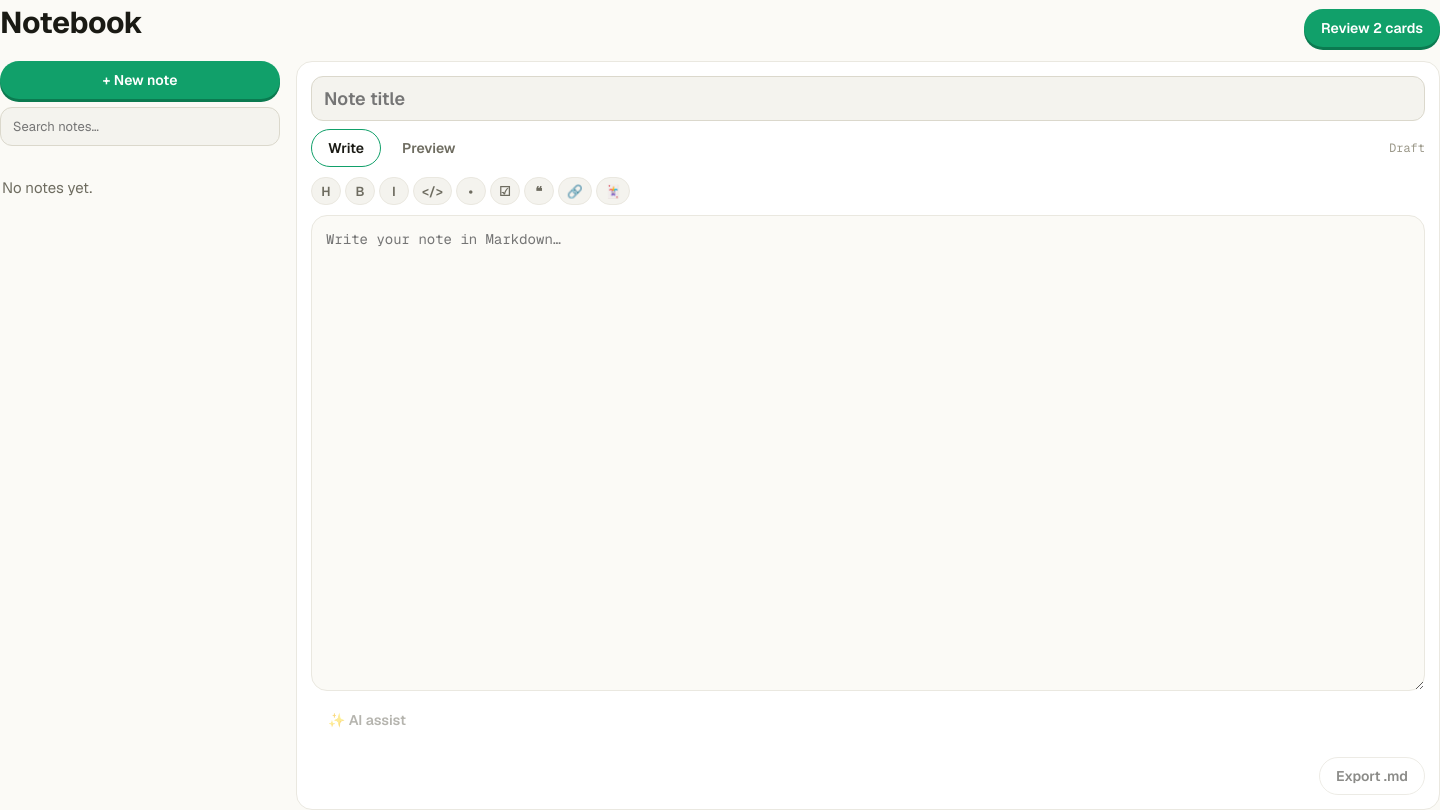
Scenario: Notebook › offers flashcard review when cards are due and enters review mode
Click the button with test id "notebook-review-start": x=1372, y=28 [1304,9,1439,47]
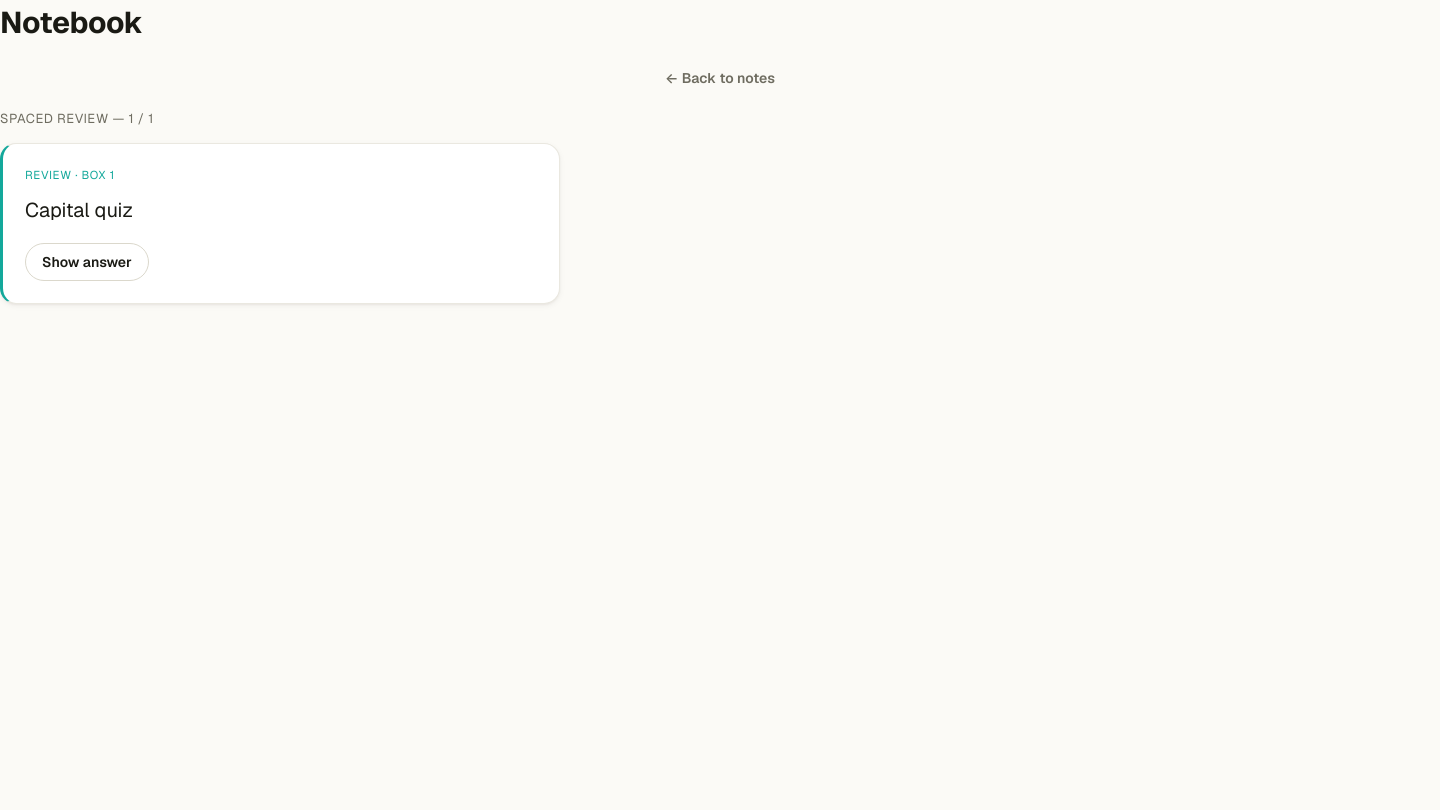
Expected: the element with test id "notebook-review" is shown, [0,59,1439,304]
Expected: the text "Capital quiz" is shown, [25,197,133,223]
